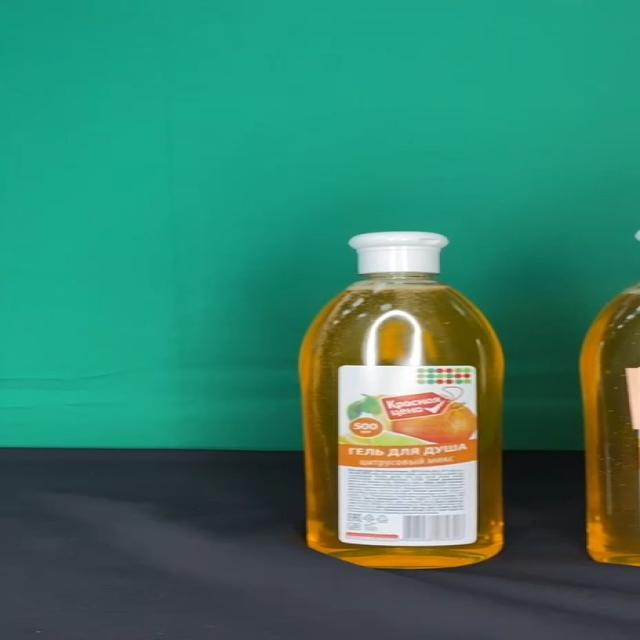Bottle: (298, 232, 504, 569)
Cap: (348, 232, 448, 274)
